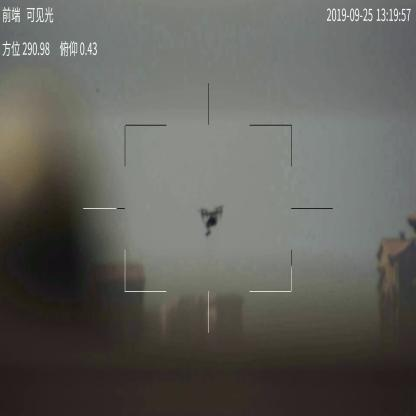uav: (197, 204, 225, 236)
